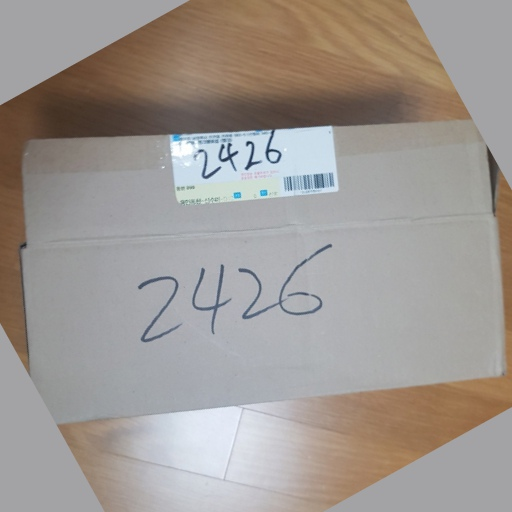Paper_0: (10, 113, 512, 432)
